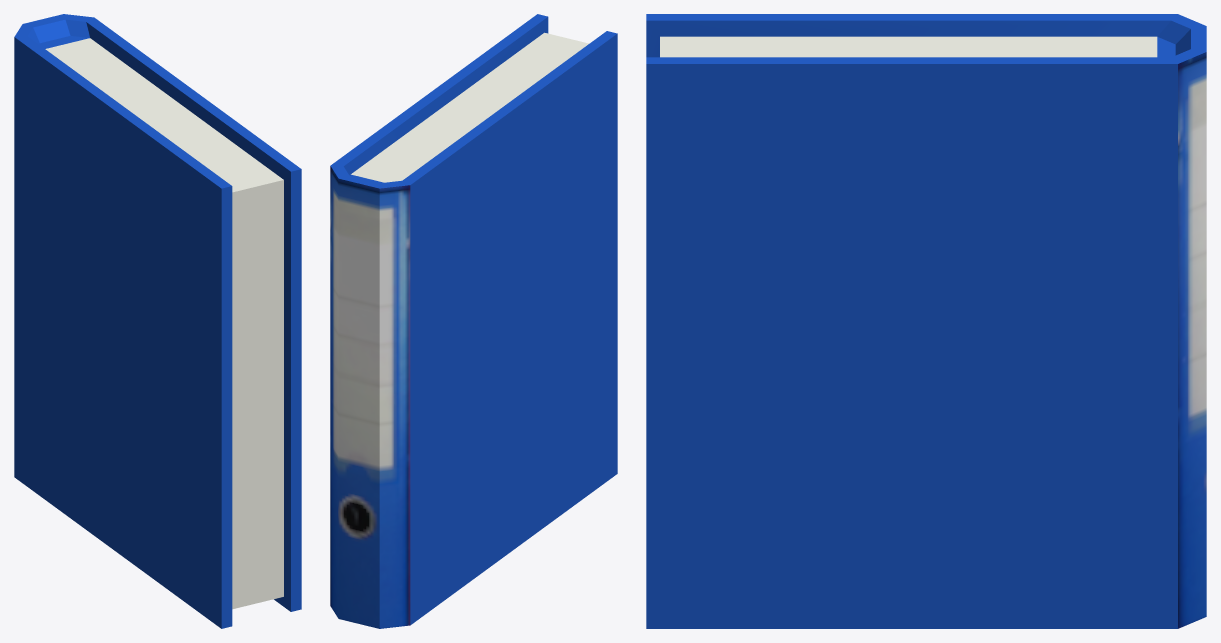
Rendered from FolderBigBlue.fbx.
3 renders of one model, left to right at view 1: azimuth 30°, elevation 25°; view 2: azimuth 150°, elevation 25°; view 3: azimuth 270°, elevation 25°, orthographic. The views are drawn at different scales.
Parts seen in each view (by area): view 1: FolderBigBlue; view 2: FolderBigBlue; view 3: FolderBigBlue.
Part boxes in pixels (left/top/right/bottom): FolderBigBlue: left=14, top=14, right=301, bottom=628; FolderBigBlue: left=330, top=14, right=617, bottom=628; FolderBigBlue: left=646, top=14, right=1206, bottom=628.
Bounding box in the file's own units: 8.41 × 44.24 × 39.78.
